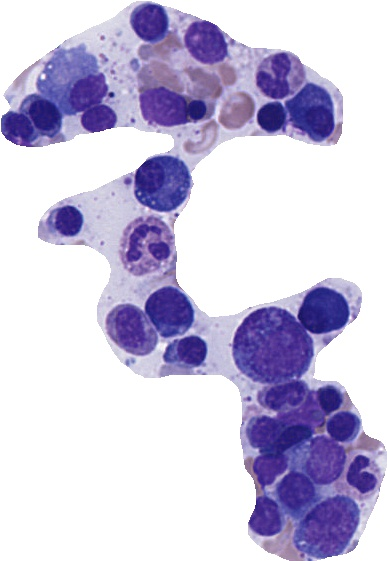objectness: (290, 87, 340, 137), (296, 289, 346, 339), (48, 56, 98, 106), (134, 156, 184, 206), (332, 452, 382, 502), (121, 217, 171, 267), (256, 52, 306, 102), (105, 304, 155, 354), (259, 373, 309, 423), (303, 503, 353, 553), (281, 389, 331, 439), (305, 374, 355, 424), (178, 15, 228, 65), (293, 435, 343, 485), (138, 82, 188, 132), (242, 447, 292, 497), (73, 96, 123, 146), (240, 408, 290, 458), (270, 409, 320, 459), (241, 491, 291, 541), (272, 466, 322, 516), (172, 85, 222, 135), (319, 401, 369, 451), (20, 90, 70, 140), (246, 91, 296, 141), (162, 325, 212, 375), (42, 199, 92, 249), (143, 284, 193, 334), (247, 326, 297, 376), (125, 0, 175, 48), (0, 102, 43, 152)
